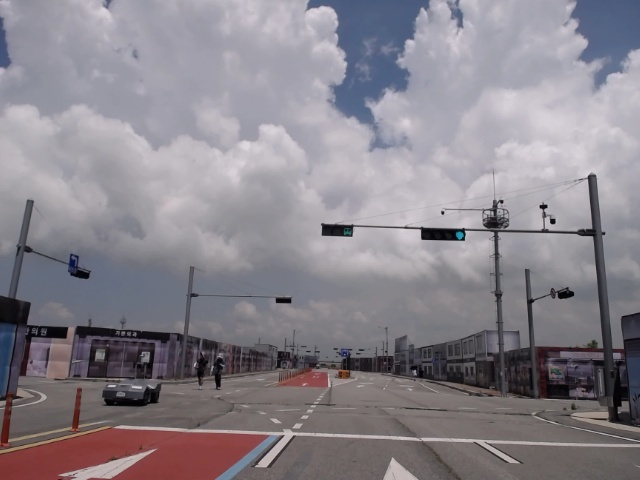straight_green_4: (422, 228, 466, 242)
